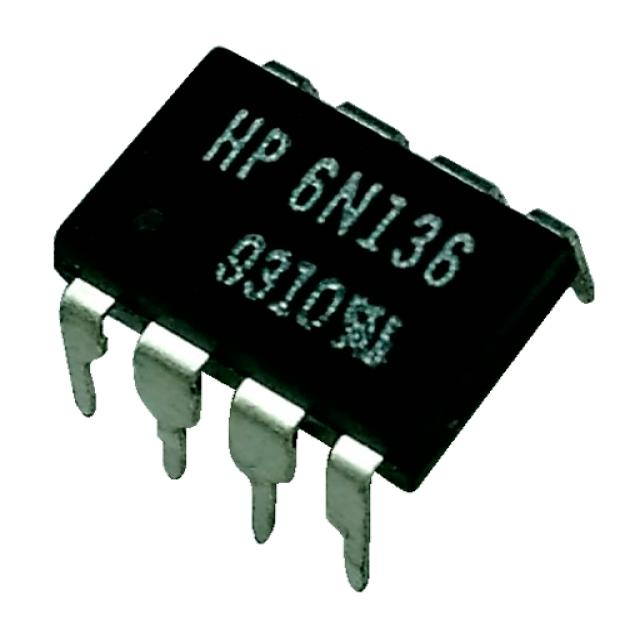IC: (52, 39, 598, 535)
